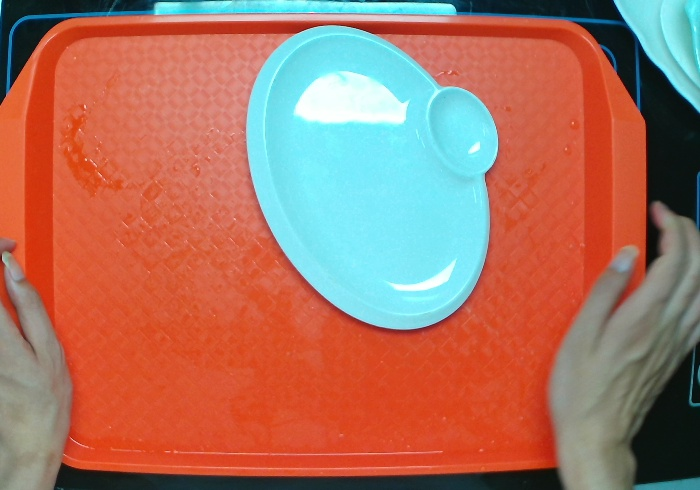RJxy-Zhan_Liao_Pan: (242, 23, 504, 335)
